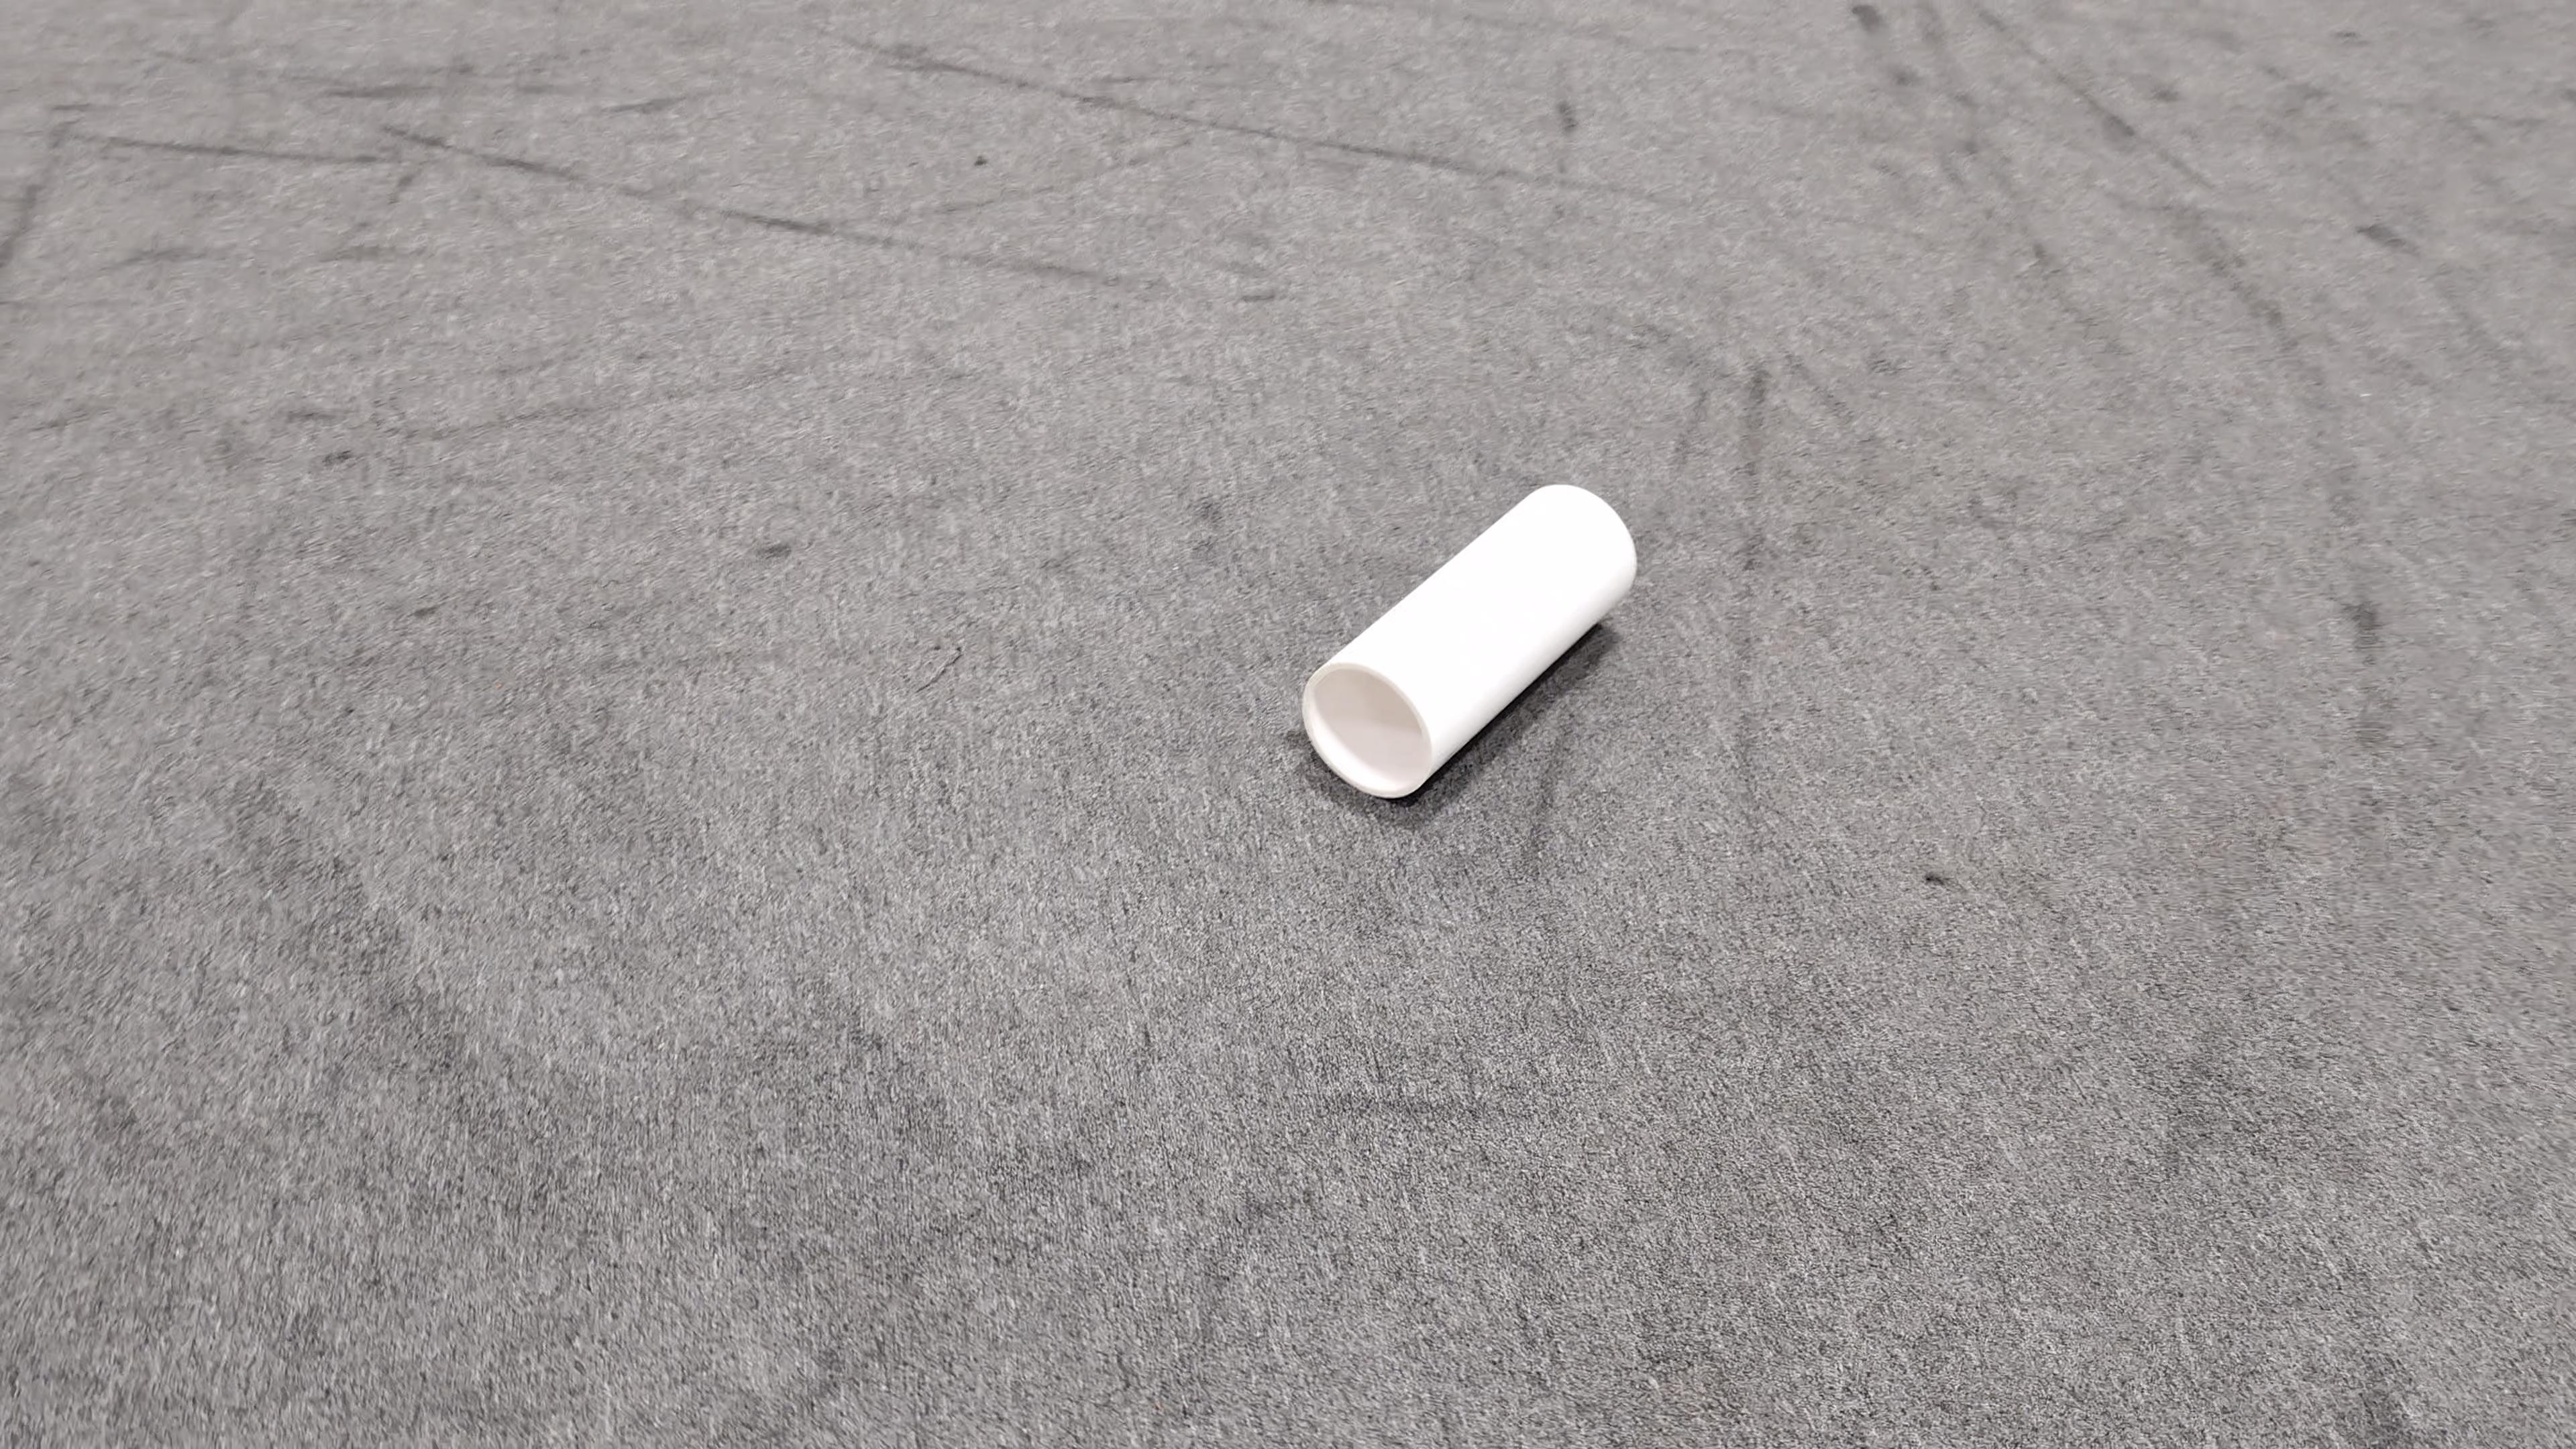coral: (1306, 485, 1637, 798)
